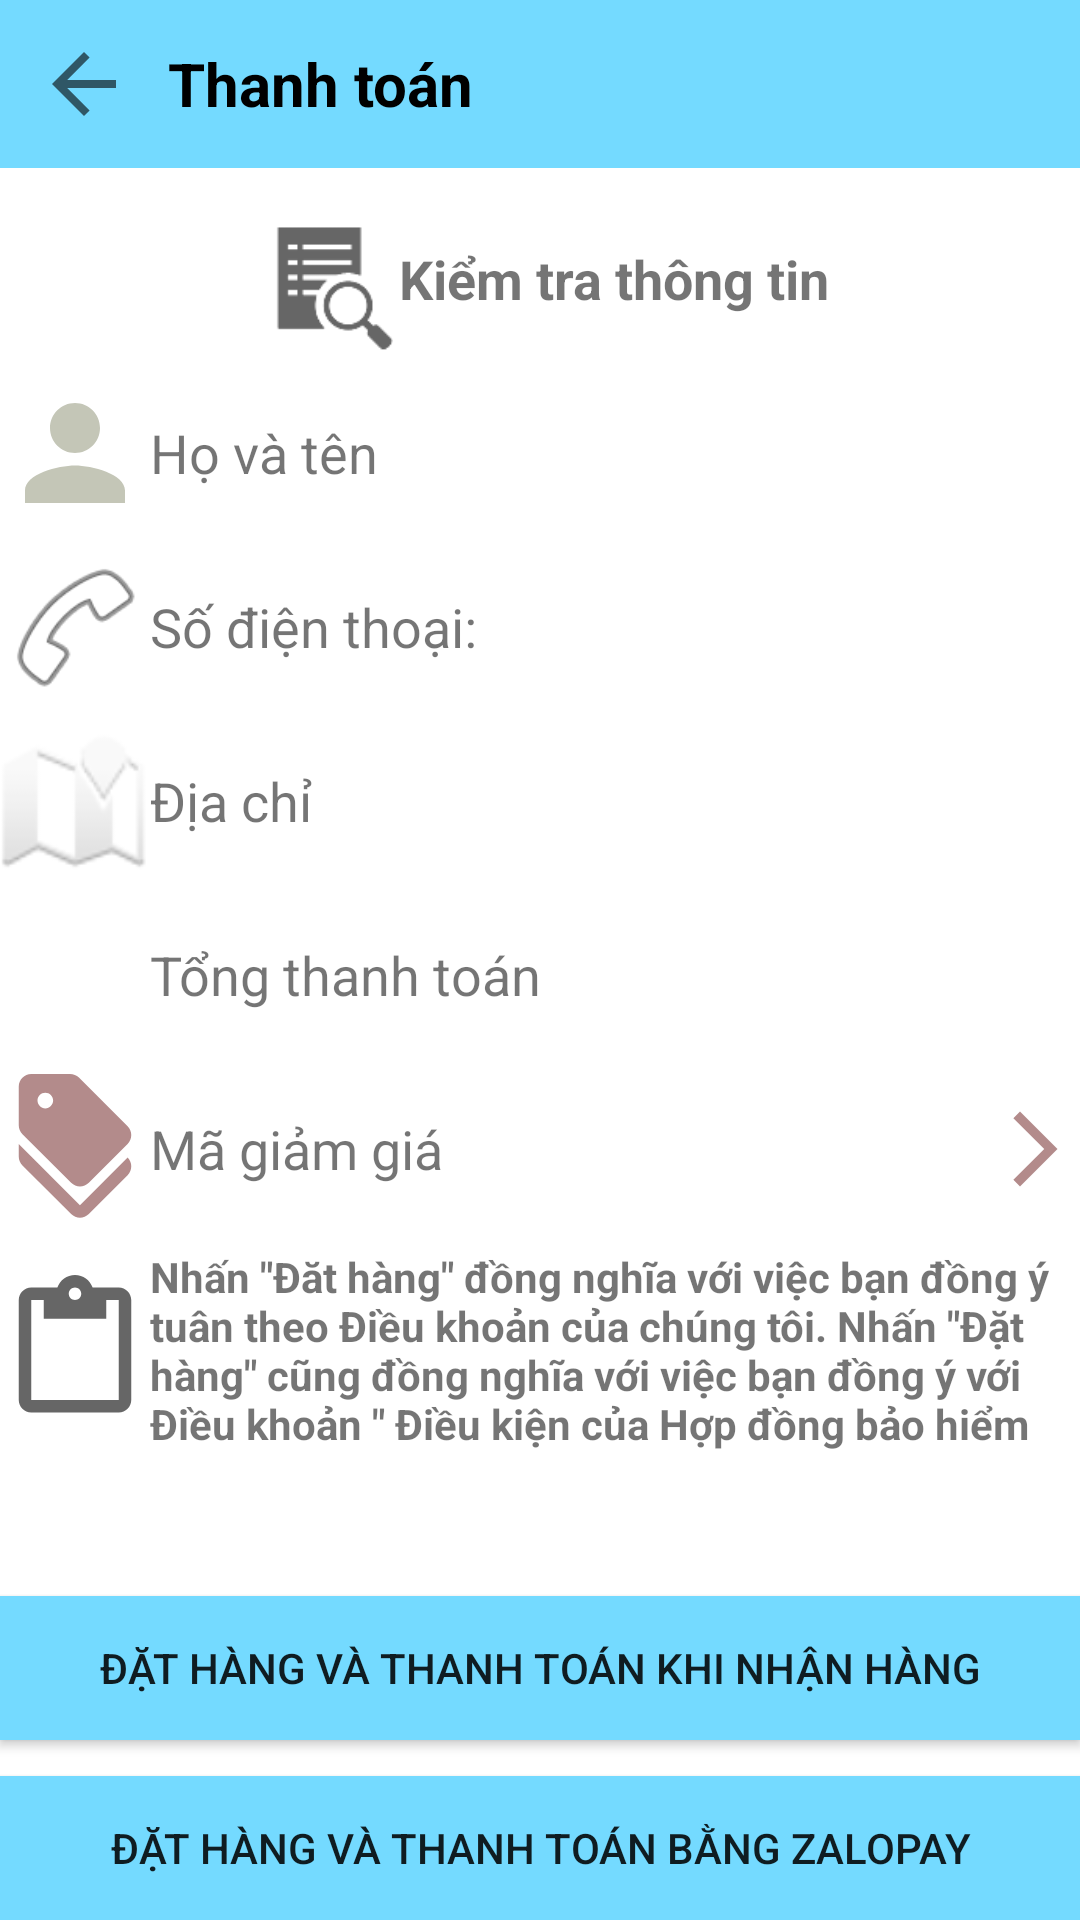

Icons on this 1080x1920 Android screen, each with the point to tap as (x=x, y=y):
address: (x=73, y=809)
arrow forward: (x=1035, y=1149)
call: (x=76, y=628)
discount: (x=75, y=1146)
info: (x=335, y=288)
name: (x=75, y=453)
policy: (x=75, y=1344)
